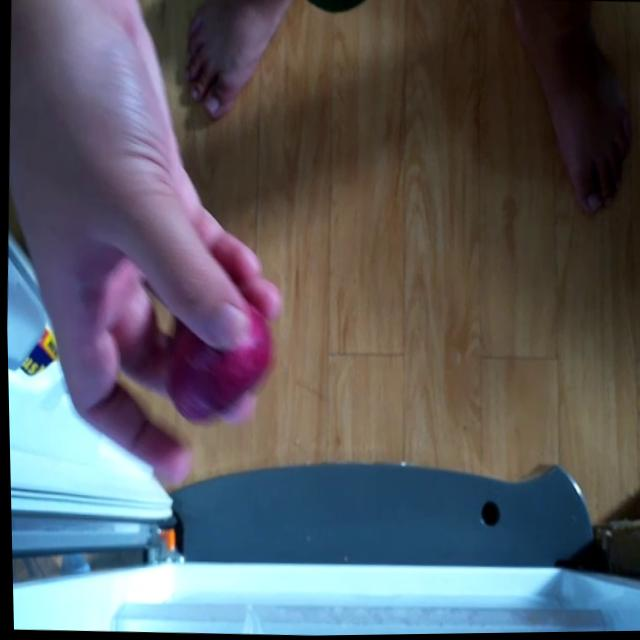onion: (164, 289, 275, 424)
